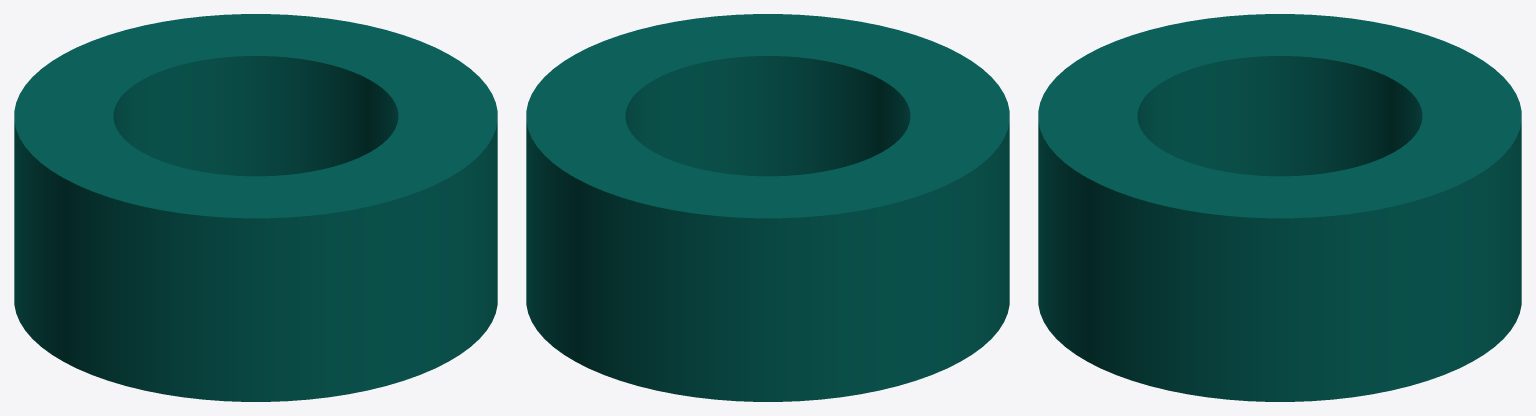
Rendered from stage_2F_inside_water.fbx.
3 views of the same model, side by side, from view 1: azimuth 30°, elevation 25°; view 2: azimuth 150°, elevation 25°; view 3: azimuth 270°, elevation 25° (orthographic).
Visible parts, largest first — view 1: pCylinder19; view 2: pCylinder19; view 3: pCylinder19.
Boxes of the visible parts, x1,y1,x2,y2 form: pCylinder19: [14, 14, 497, 401]; pCylinder19: [526, 14, 1009, 401]; pCylinder19: [1038, 14, 1521, 401].
Size of the model in its own units: 8146 by 3416 by 8146.
